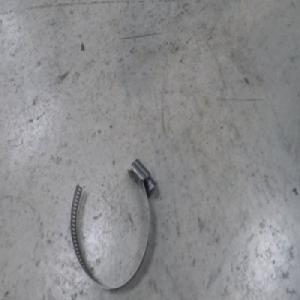AdjustableClamp: (69, 159, 155, 289)
